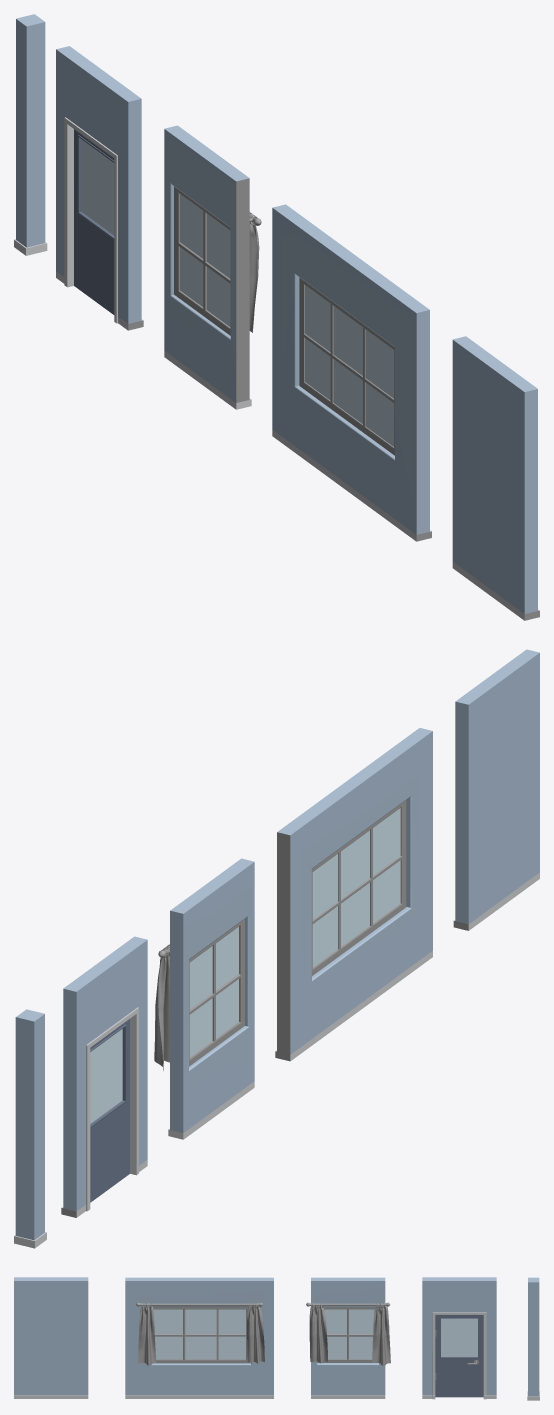
Rendered from walls.fbx.
The picture shows the model from 3 angles, top to bottom: view 1: azimuth 30°, elevation 25°; view 2: azimuth 150°, elevation 25°; view 3: azimuth 270°, elevation 25°; orthographic projection. The views are drawn at different scales.
Visible parts, largest first — view 1: polySurface42, wall_empty, polySurface75, polySurface86, polySurface47, wall_hoekpilaar, polySurface79, polySurface81, polySurface87, polySurface44, polySurface78, polySurface71; view 2: polySurface42, wall_empty, polySurface75, polySurface86, polySurface47, wall_hoekpilaar, polySurface79, polySurface81, polySurface87, polySurface44, polySurface80, polySurface78; view 3: polySurface42, wall_empty, polySurface86, polySurface75, polySurface47, polySurface81, polySurface79, wall_hoekpilaar, polySurface87, polySurface80, polySurface71, polySurface48 (+6 smaller).
Boxes of the visible parts, left/top/right/bottom form: polySurface42: left=272, top=204, right=431, bottom=541; wall_empty: left=452, top=336, right=539, bottom=620; polySurface75: left=164, top=125, right=251, bottom=409; polySurface86: left=56, top=46, right=143, bottom=330; polySurface47: left=305, top=285, right=393, bottom=446; wall_hoekpilaar: left=14, top=14, right=47, bottom=255; polySurface79: left=180, top=194, right=230, bottom=326; polySurface81: left=74, top=129, right=114, bottom=314; polySurface87: left=81, top=139, right=114, bottom=235; polySurface44: left=299, top=277, right=394, bottom=455; polySurface78: left=174, top=186, right=230, bottom=335; polySurface71: left=249, top=221, right=259, bottom=332; polySurface42: left=275, top=728, right=432, bottom=1061; wall_empty: left=453, top=649, right=539, bottom=930; polySurface75: left=168, top=858, right=254, bottom=1139; polySurface86: left=61, top=936, right=147, bottom=1217; polySurface47: left=312, top=808, right=400, bottom=967; wall_hoekpilaar: left=14, top=1009, right=46, bottom=1248; polySurface79: left=189, top=927, right=238, bottom=1057; polySurface81: left=90, top=1019, right=129, bottom=1202; polySurface87: left=90, top=1029, right=122, bottom=1123; polySurface44: left=312, top=800, right=406, bottom=975; polySurface80: left=154, top=953, right=169, bottom=1070; polySurface78: left=189, top=919, right=244, bottom=1066; polySurface42: left=125, top=1277, right=273, bottom=1398; wall_empty: left=14, top=1277, right=88, bottom=1398; polySurface86: left=422, top=1277, right=496, bottom=1399; polySurface75: left=311, top=1277, right=385, bottom=1398; polySurface47: left=153, top=1309, right=245, bottom=1359; polySurface81: left=435, top=1315, right=483, bottom=1397; polySurface79: left=324, top=1309, right=374, bottom=1359; wall_hoekpilaar: left=527, top=1277, right=539, bottom=1400; polySurface87: left=441, top=1318, right=477, bottom=1356; polySurface80: left=372, top=1306, right=390, bottom=1365; polySurface71: left=309, top=1305, right=327, bottom=1363; polySurface48: left=138, top=1306, right=156, bottom=1365.
Bounding box in the file's own units: 51.75 × 350 × 1417.
